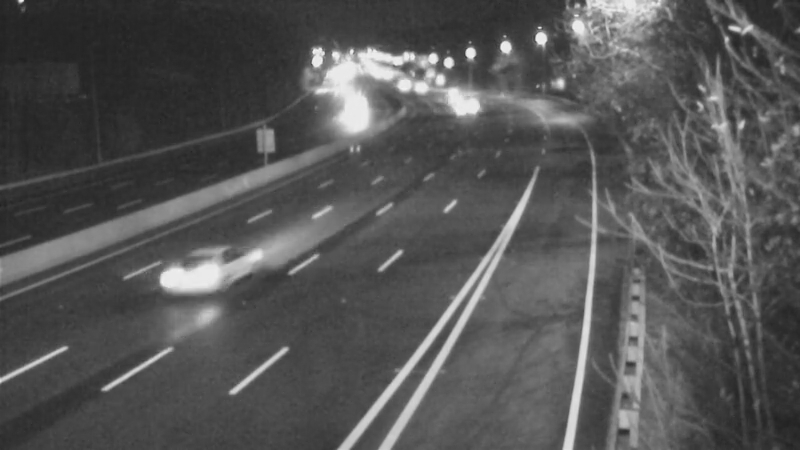vehicle: (151, 231, 231, 311), (375, 58, 425, 108), (393, 61, 443, 111), (429, 71, 479, 121), (441, 82, 491, 132), (328, 84, 378, 134)
